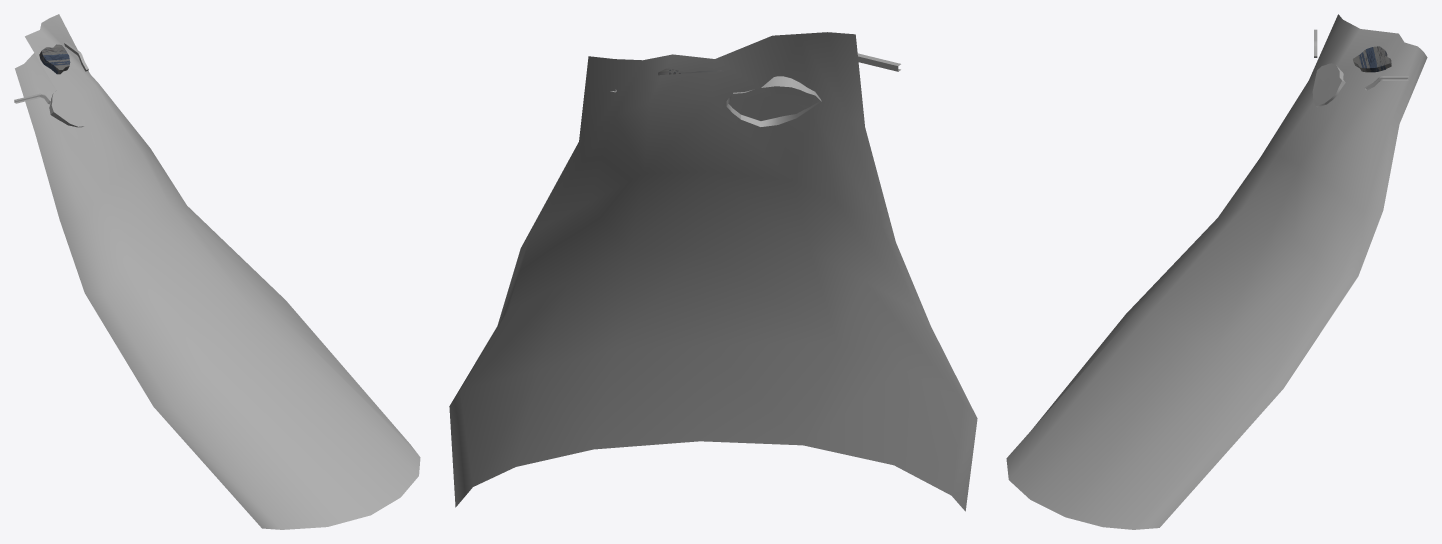
The model's file is PatientRoomRamp.fbx.
3 views of the same model, side by side, from view 1: azimuth 30°, elevation 25°; view 2: azimuth 150°, elevation 25°; view 3: azimuth 270°, elevation 25° (orthographic). The views are drawn at different scales.
Parts seen in each view (by area): view 1: pCube153, Floor_1:pCube157, Floor_1:pCube156; view 2: pCube153, Floor_1:pCube157; view 3: pCube153, Floor_1:pCube157, Floor_1:pCube156.
Part boxes in pixels (x1,y1,x2,y2): pCube153: (15,14,420,529); Floor_1:pCube157: (49,89,85,127); Floor_1:pCube156: (39,44,70,74); pCube153: (449,32,977,511); Floor_1:pCube157: (726,76,821,126); pCube153: (1006,14,1427,529); Floor_1:pCube157: (1312,63,1345,107); Floor_1:pCube156: (1353,46,1391,72).
Bounding box in the file's own units: 563 × 659 × 675.
